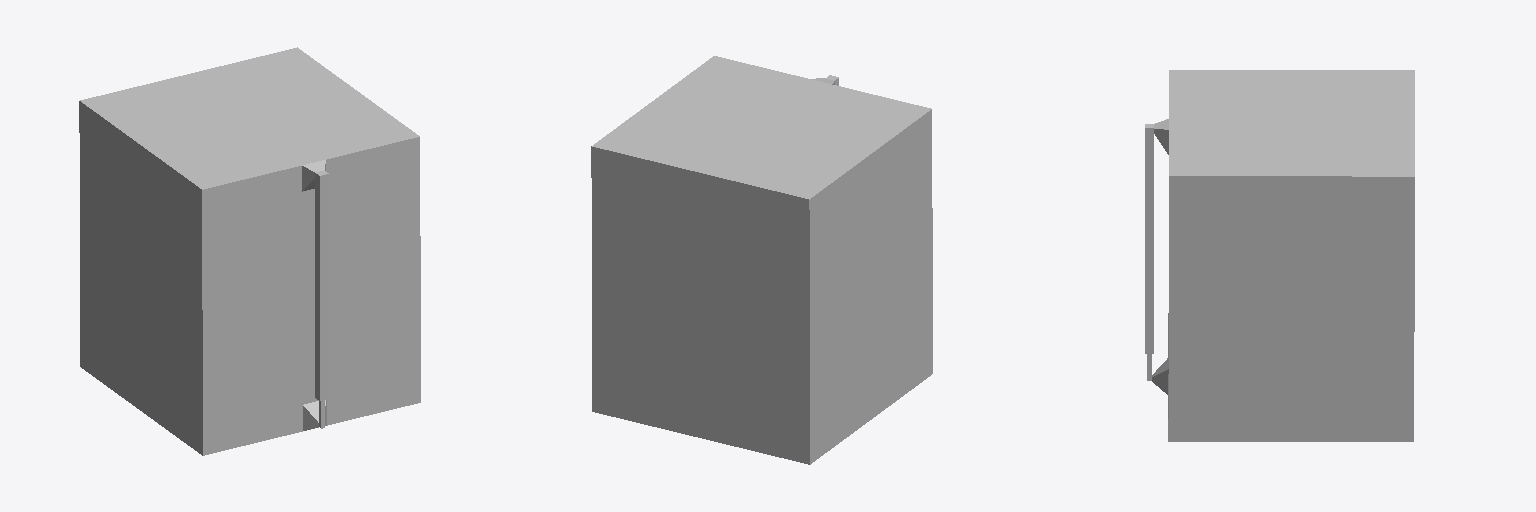
File: tightSleeve.obj
The picture shows the model from 3 angles: view 1: azimuth 30°, elevation 25°; view 2: azimuth 150°, elevation 25°; view 3: azimuth 270°, elevation 25°; orthographic projection.
Size of the model in its own units: 2.09 by 2.44 by 2.24.